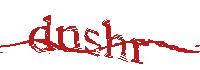d: (29, 14, 52, 54)
h: (102, 19, 127, 61)
n: (56, 24, 81, 54)
r: (130, 37, 151, 66)
s: (83, 29, 102, 57)
